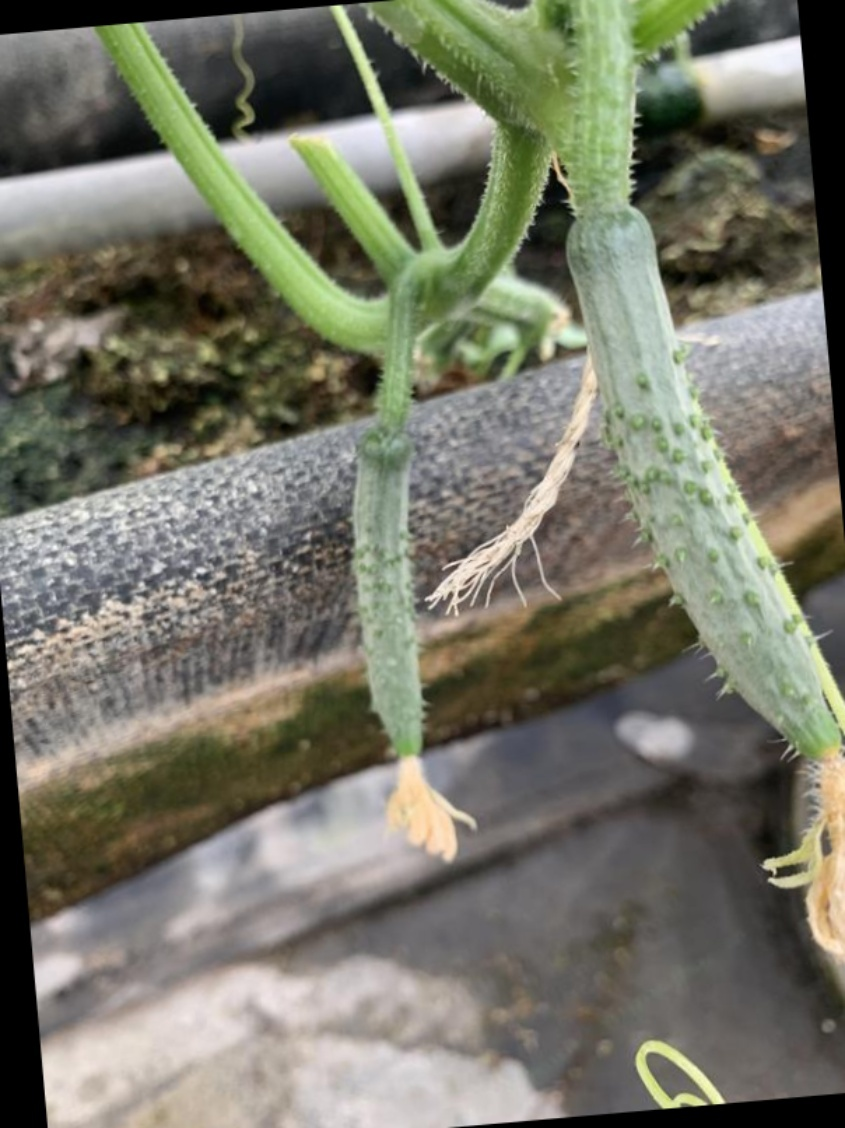growth: (551, 192, 841, 807)
